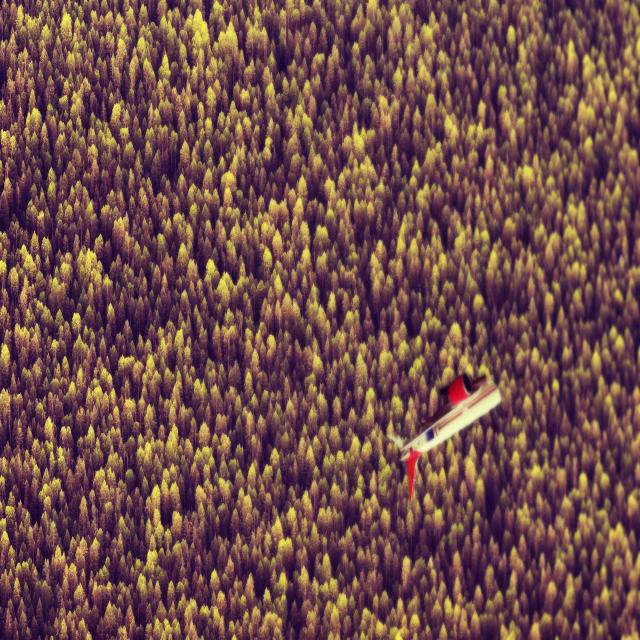airplane: (385, 371, 502, 501)
